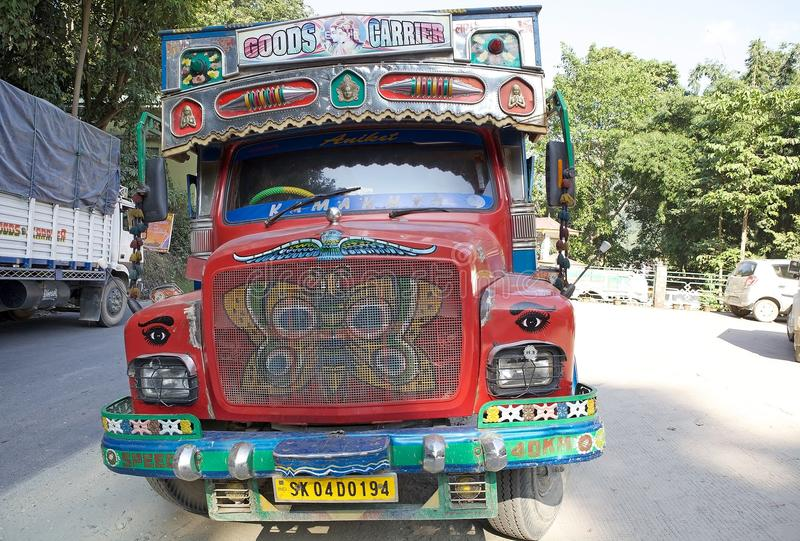numberplate: (270, 474, 399, 505)
